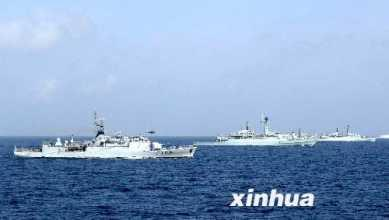warship: (10, 109, 202, 156), (211, 111, 318, 148), (322, 114, 377, 144)
